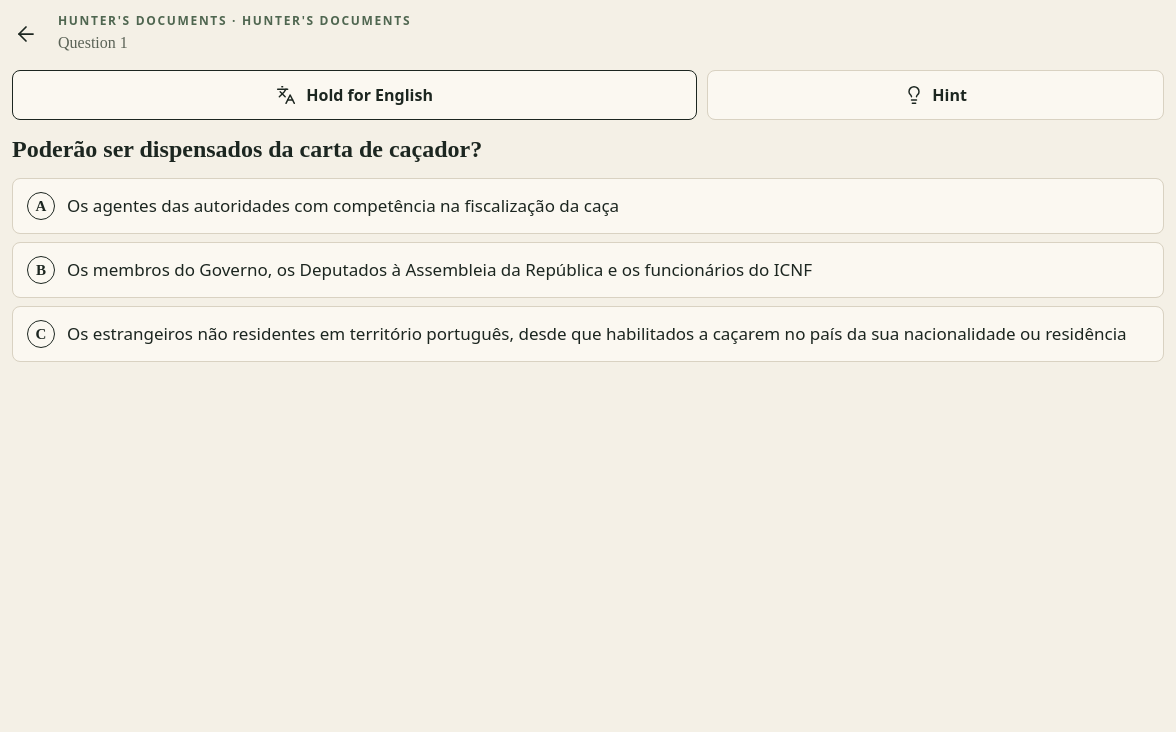
Test case: PracticePage › says when an answer could not be saved, keeps the result, and Next still draws (cac-eil.25)
Click the 3rd button: {"x": 588, "y": 206} [12,178,1164,234]
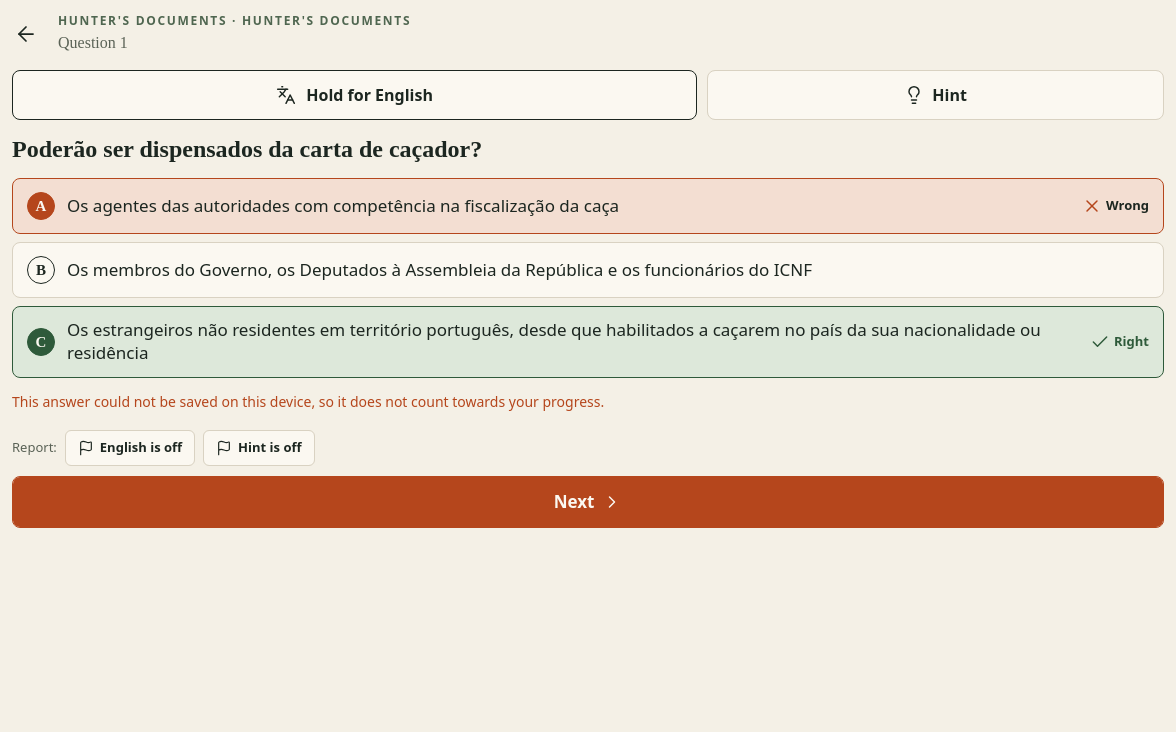
Expected: the text "Wrong" is shown, [1106,197,1149,215]
Expected: the text "This answer could not be saved on this device, so it does not count towards your progress." is shown, [12,392,604,411]
Click the button "Next": {"x": 588, "y": 502} [12,476,1164,528]
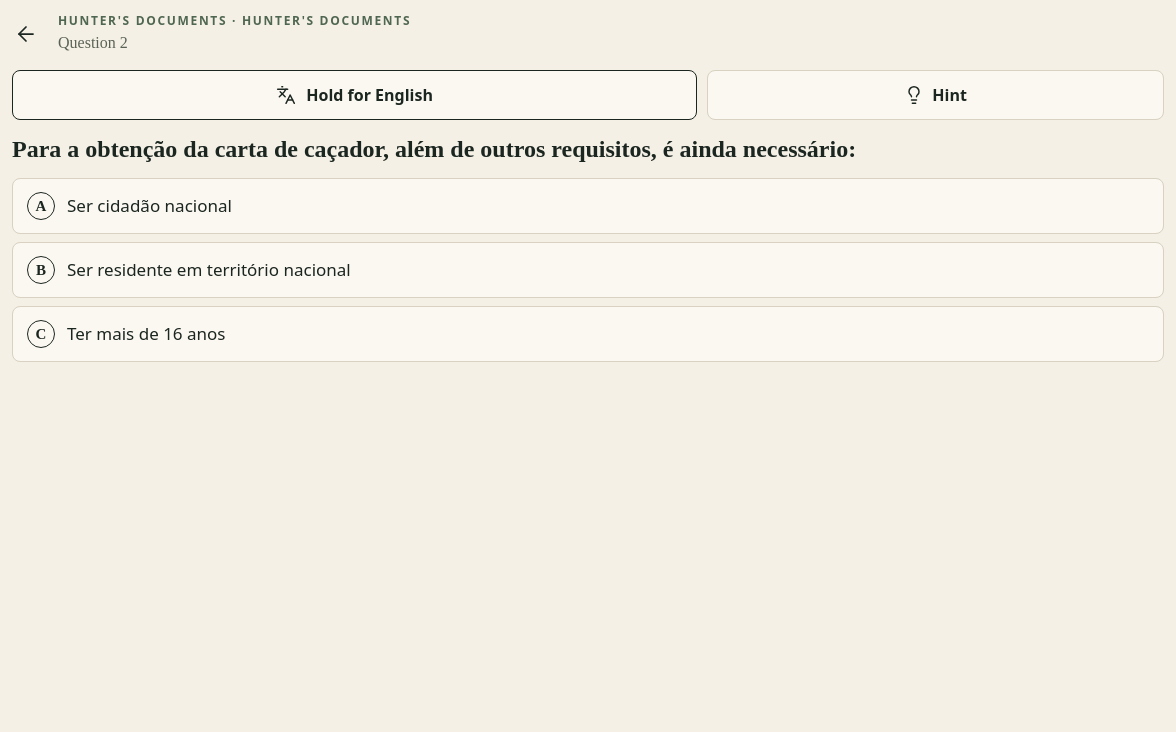
Expected: the text "This answer could not be saved on this device, so it does not count towards your progress." is gone
